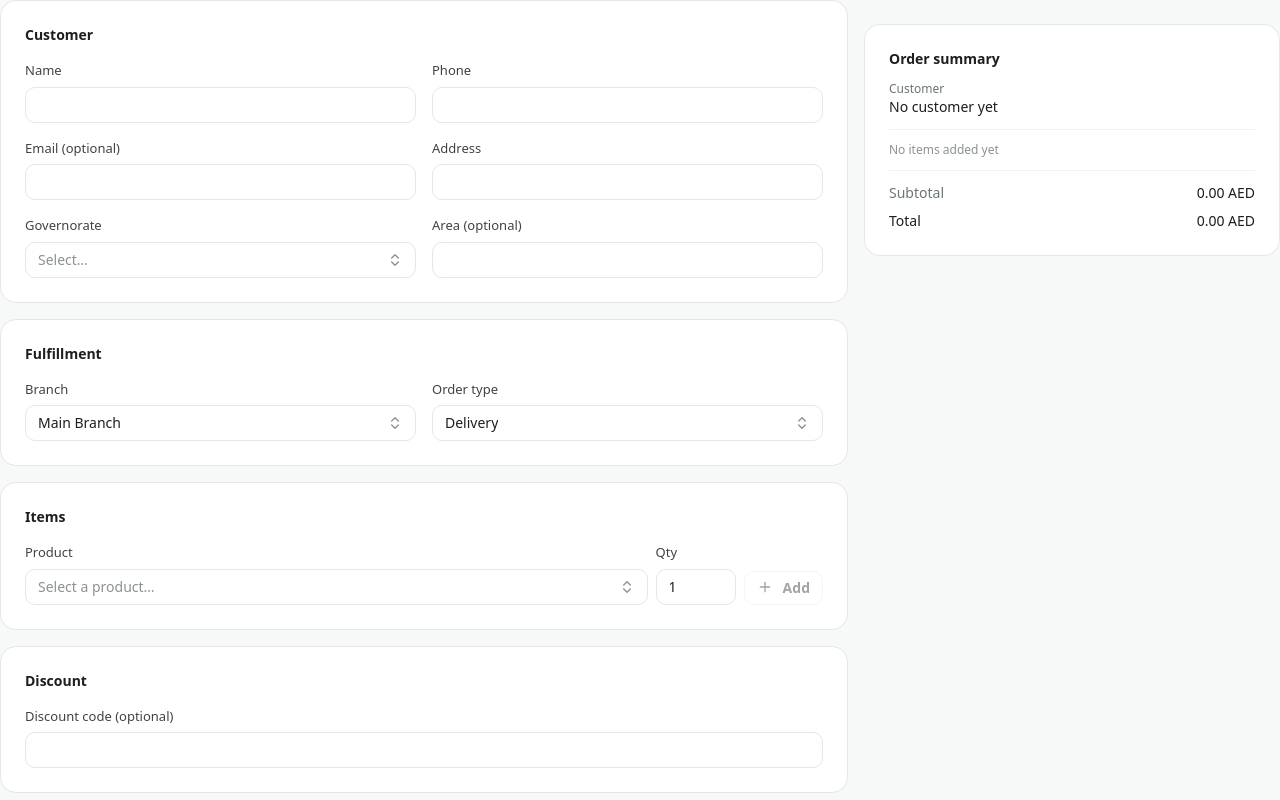
Scenario: DraftOrderBuilder › labels the field with the country's own word and offers only that country's regions
Click the dropdown labelled "Select…". click: (63,259)
box: [25,242,416,278]
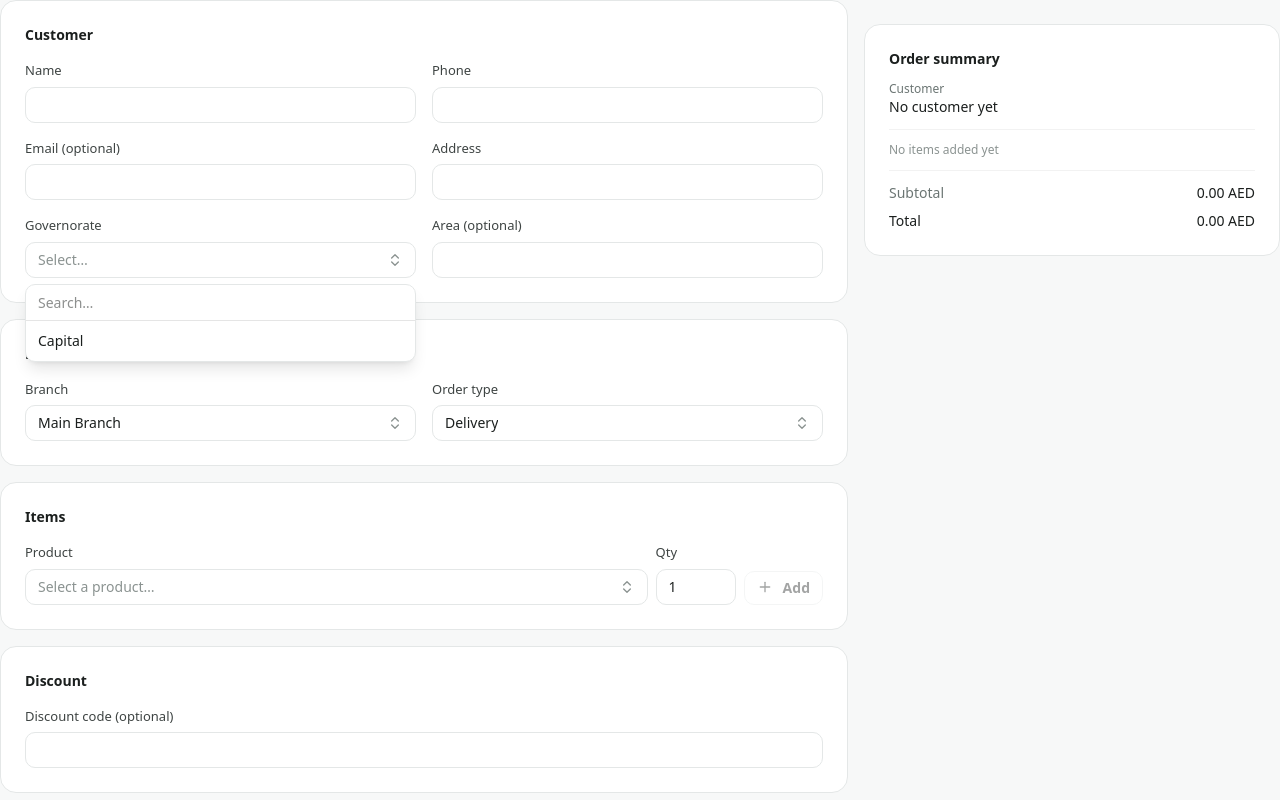
Result: the option "Capital" is shown at [26,324,415,356]
